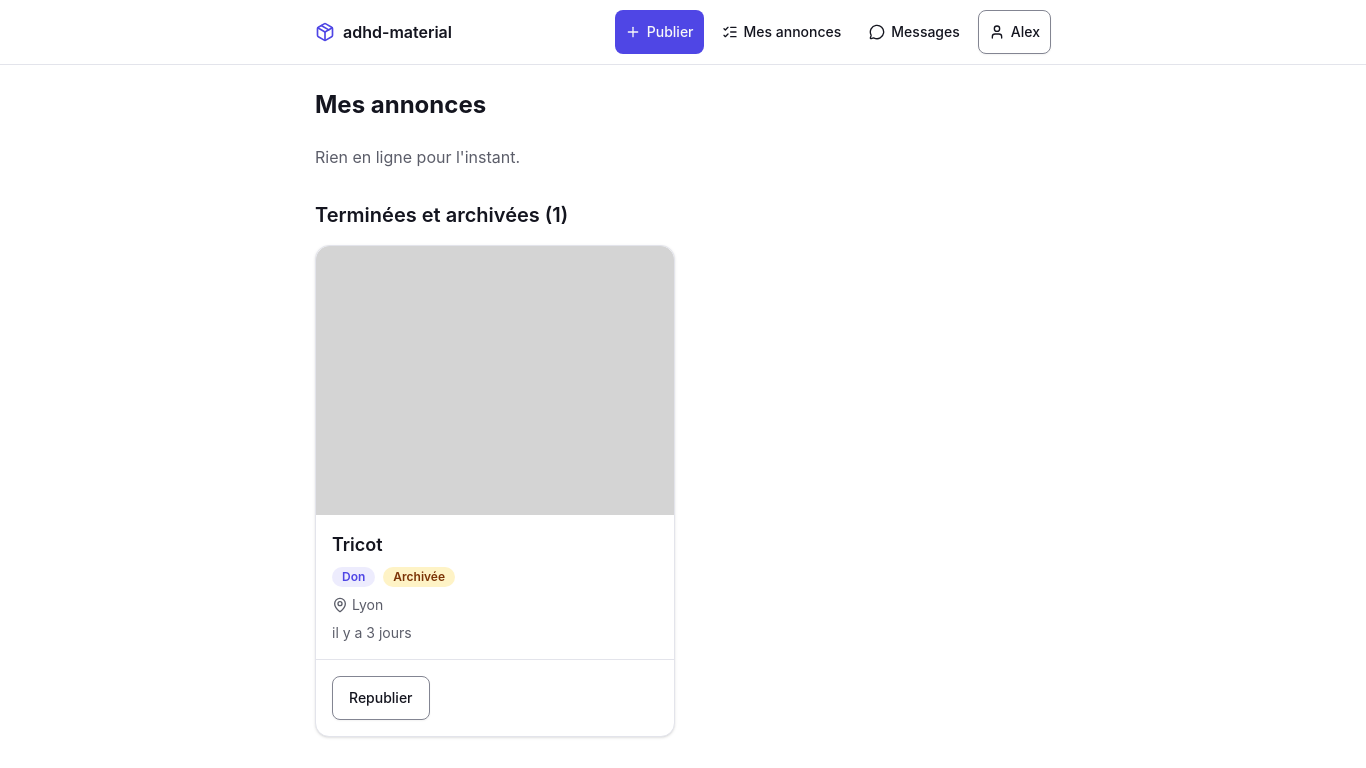
Test: Mes annonces › « Republier » remet l'annonce disponible sans confirmation
Click the button with aria-label "Republier : Tricot, ".
click(381, 698)  # box [332,676,430,720]
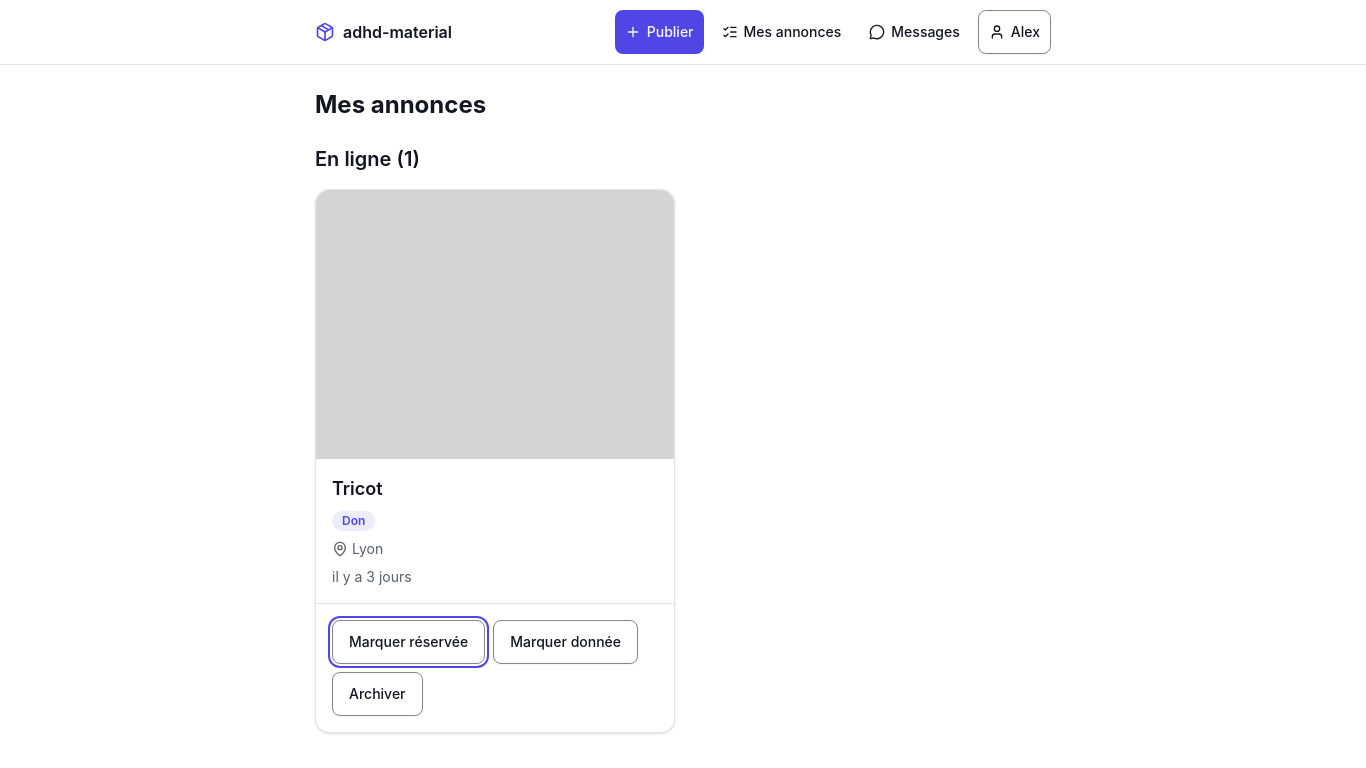
Result: the heading "En ligne (1)" is shown at [315,147,420,171]
